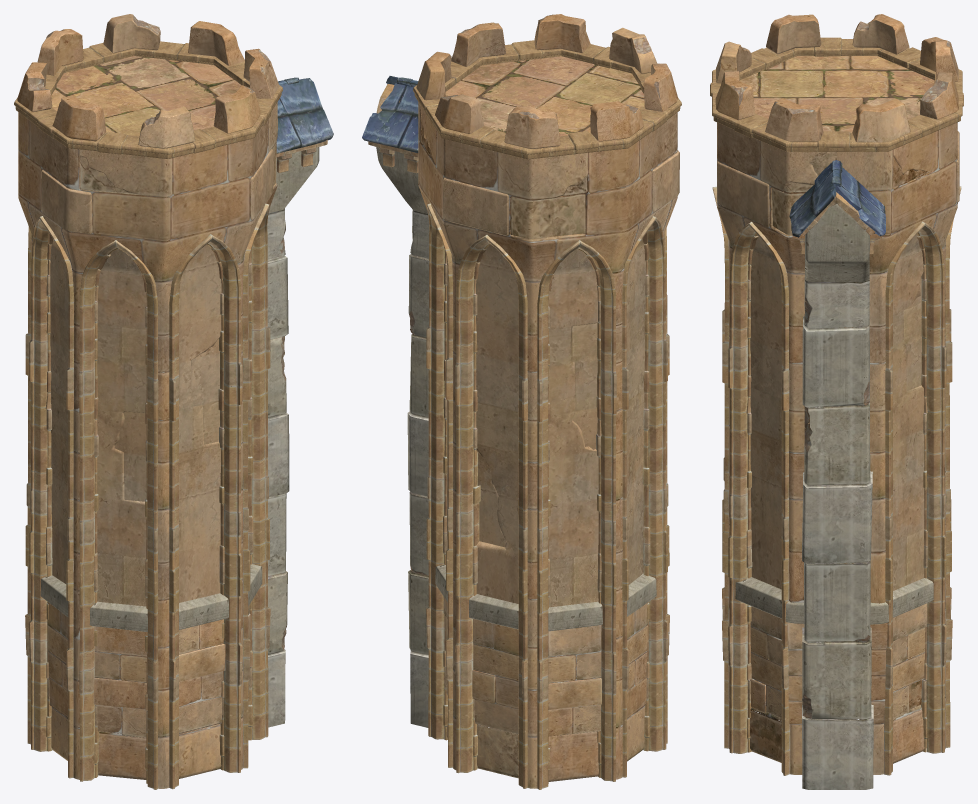
3 renders of one model, left to right at view 1: azimuth 30°, elevation 25°; view 2: azimuth 150°, elevation 25°; view 3: azimuth 270°, elevation 25°, orthographic.
Parts seen in each view (by area): view 1: SM_Magic_Institute_Tower_01v1_LOD0; view 2: SM_Magic_Institute_Tower_01v1_LOD0; view 3: SM_Magic_Institute_Tower_01v1_LOD0.
Part boxes in pixels (box(x1,y1,x2,y2)): SM_Magic_Institute_Tower_01v1_LOD0: box(14, 14, 333, 789); SM_Magic_Institute_Tower_01v1_LOD0: box(362, 14, 681, 789); SM_Magic_Institute_Tower_01v1_LOD0: box(710, 14, 963, 789).
Bounding box in the file's own units: 4.83 × 11.38 × 3.9.
Materials: 8 (8 with a texture image).
